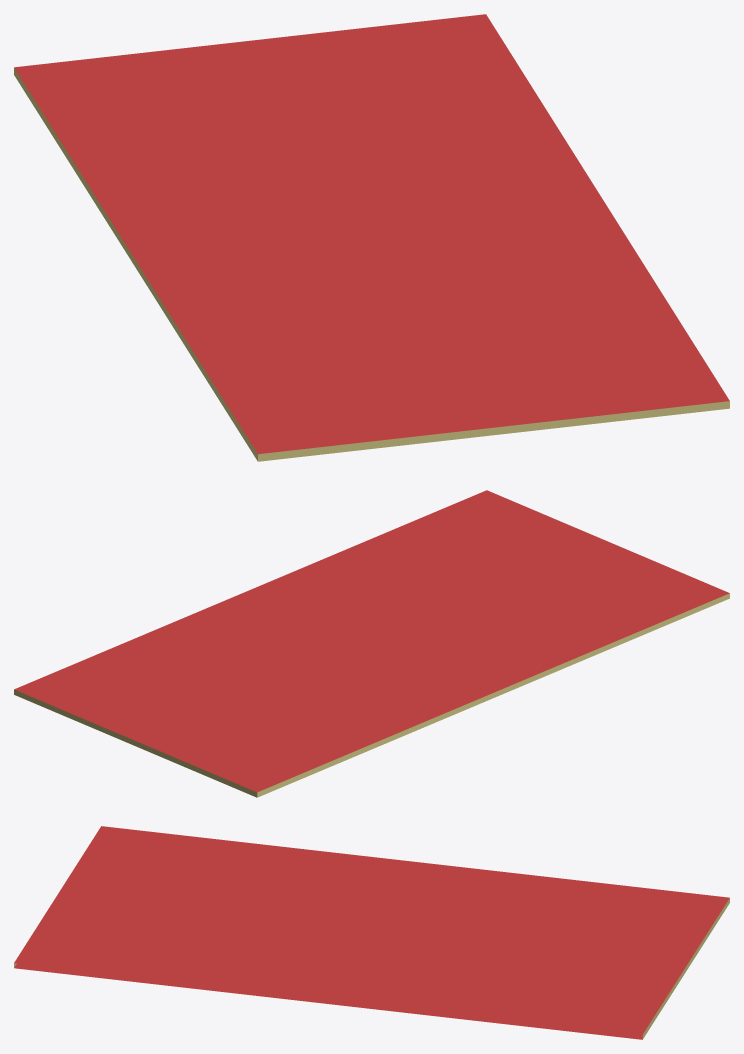
3 views of the same model, one above another, from view 1: azimuth 30°, elevation 25°; view 2: azimuth 150°, elevation 25°; view 3: azimuth 270°, elevation 25° (orthographic). The views are drawn at different scales.
Bounding box in the file's own units: 8.61 × 12.48 × 0.1.
